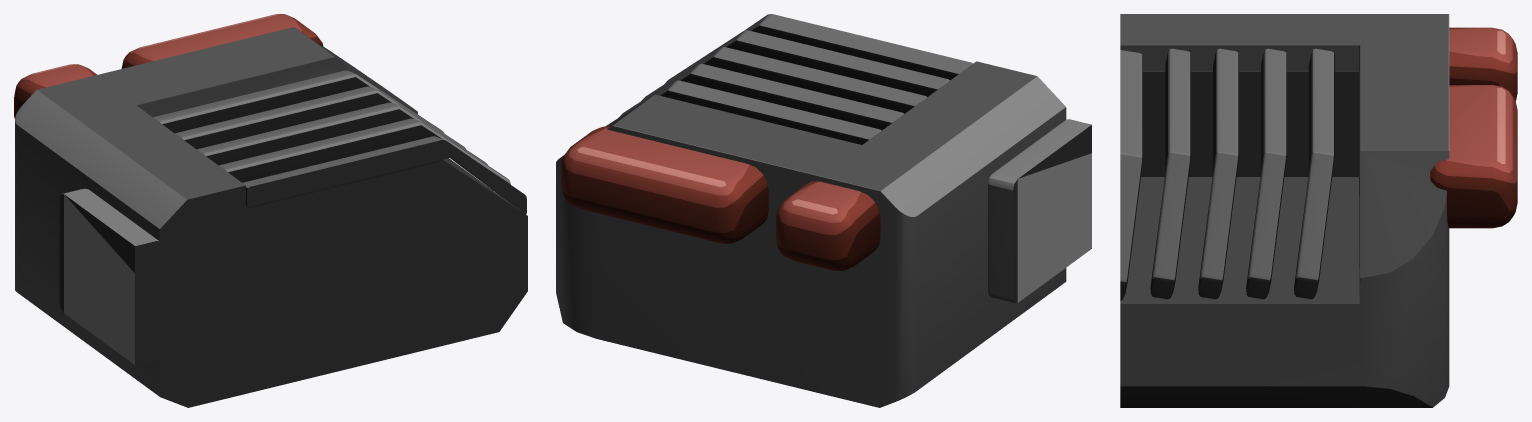
The model's file is ixm_dock_tr.glb.
3 renders of one model, left to right at view 1: azimuth 30°, elevation 25°; view 2: azimuth 150°, elevation 25°; view 3: azimuth 270°, elevation 25°, orthographic. The views are drawn at different scales.
Parts seen in each view (by area): view 1: ixm_dock_tr; view 2: ixm_dock_tr; view 3: ixm_dock_tr.
Part boxes in pixels (<box>): ixm_dock_tr: <box>14,14,527,407</box>; ixm_dock_tr: <box>556,14,1091,407</box>; ixm_dock_tr: <box>1120,14,1517,407</box>.
Bounding box in the file's own units: 20.7 × 10.5 × 16.6.
